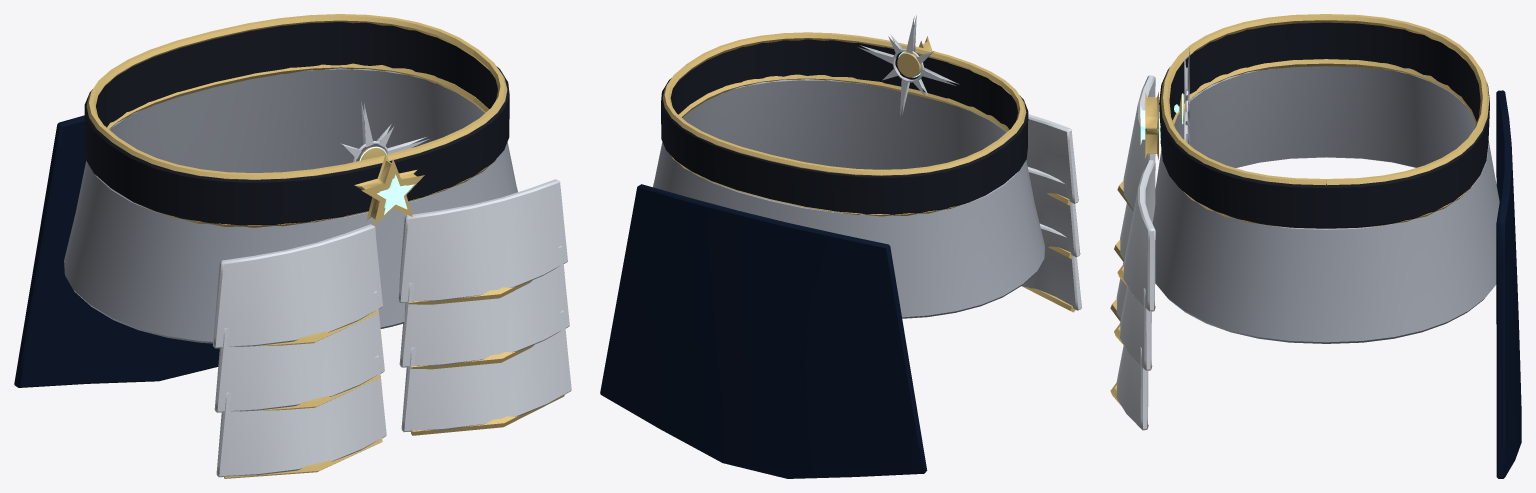
File: esc_last_crown_marshal_inner.glb
The picture shows the model from 3 angles, left to right: view 1: azimuth 30°, elevation 25°; view 2: azimuth 150°, elevation 25°; view 3: azimuth 270°, elevation 25°; orthographic projection. The views are drawn at different scales.
Visible parts, largest first — view 1: esc_last_crown_marshal_inner, AT_thigh_L, AT_thigh_R; view 2: esc_last_crown_marshal_inner, AT_thigh_R; view 3: esc_last_crown_marshal_inner, AT_thigh_L, AT_thigh_R.
Part boxes in pixels (<box>): esc_last_crown_marshal_inner: <box>14,14,517,387</box>; AT_thigh_L: <box>398,179,571,435</box>; AT_thigh_R: <box>213,224,386,478</box>; esc_last_crown_marshal_inner: <box>600,15,1044,478</box>; AT_thigh_R: <box>1021,114,1081,312</box>; esc_last_crown_marshal_inner: <box>1140,14,1521,478</box>; AT_thigh_L: <box>1110,160,1155,430</box>; AT_thigh_R: <box>1110,75,1155,321</box>.
Size of the model in its own units: 0.5145 by 0.4756 by 0.4717.
